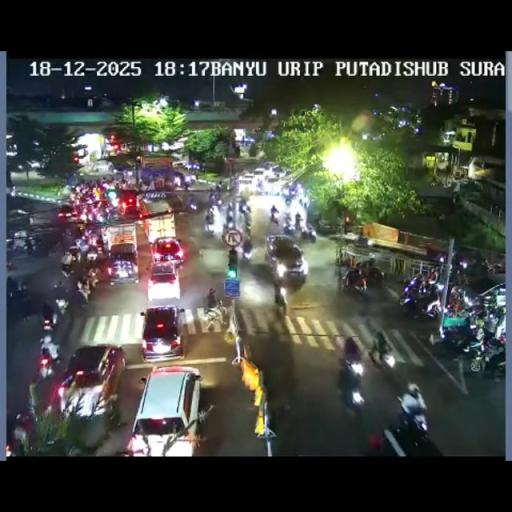Car: (126, 364, 204, 454), (55, 344, 126, 422), (138, 303, 186, 360), (264, 234, 307, 293), (146, 260, 182, 302), (106, 243, 140, 284), (150, 236, 185, 266), (475, 280, 506, 310), (117, 188, 143, 217), (237, 173, 254, 193), (174, 161, 202, 173), (57, 204, 74, 221), (265, 170, 280, 187), (252, 168, 266, 182), (262, 162, 276, 170)
Motorcycle: (205, 182, 252, 244), (64, 417, 116, 456), (399, 278, 442, 318), (436, 320, 478, 358), (466, 336, 504, 374), (394, 395, 428, 437), (339, 378, 365, 418), (11, 410, 32, 452), (369, 338, 396, 369), (201, 299, 227, 331), (342, 266, 368, 294), (36, 346, 58, 379), (344, 335, 362, 368), (446, 286, 468, 313), (365, 431, 388, 455), (82, 227, 104, 252), (482, 310, 500, 334), (41, 307, 58, 332), (468, 302, 489, 322), (274, 290, 287, 320), (17, 280, 30, 310), (354, 256, 376, 273), (299, 222, 317, 242), (76, 282, 90, 307), (484, 258, 505, 274), (54, 294, 69, 316), (282, 214, 296, 236), (88, 207, 106, 224), (6, 275, 18, 299), (66, 246, 82, 263), (204, 212, 216, 234), (24, 237, 37, 256), (85, 246, 98, 265), (86, 270, 98, 290), (242, 241, 254, 260), (60, 263, 74, 279), (242, 212, 252, 234), (426, 267, 438, 285), (455, 272, 470, 286), (238, 199, 250, 216), (355, 234, 369, 248), (225, 215, 235, 231), (299, 196, 309, 210), (270, 209, 280, 223), (214, 194, 223, 208), (255, 181, 264, 194), (294, 216, 302, 230), (173, 174, 181, 188), (284, 194, 293, 206), (139, 179, 148, 191), (184, 176, 190, 190), (214, 182, 222, 191)
